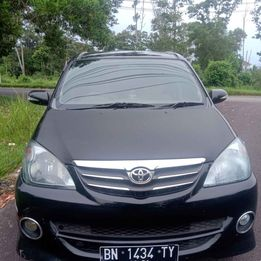plate: (99, 242, 185, 261)
